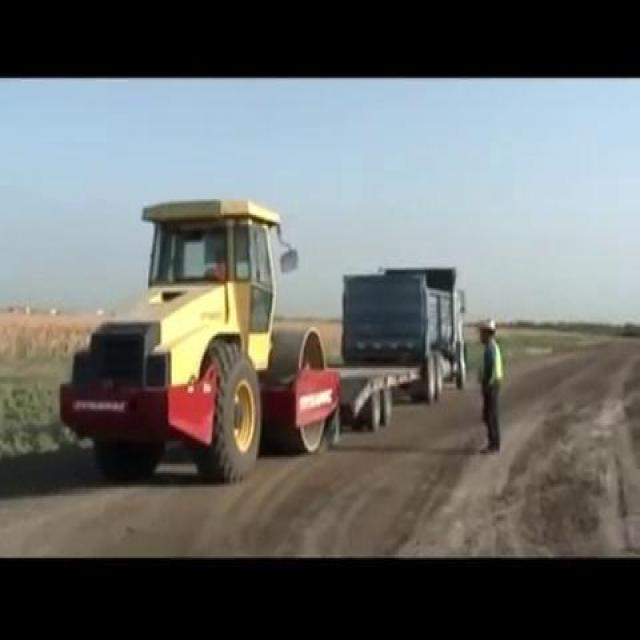Dump Truck: (345, 260, 468, 398)
Roller: (55, 196, 333, 471)
